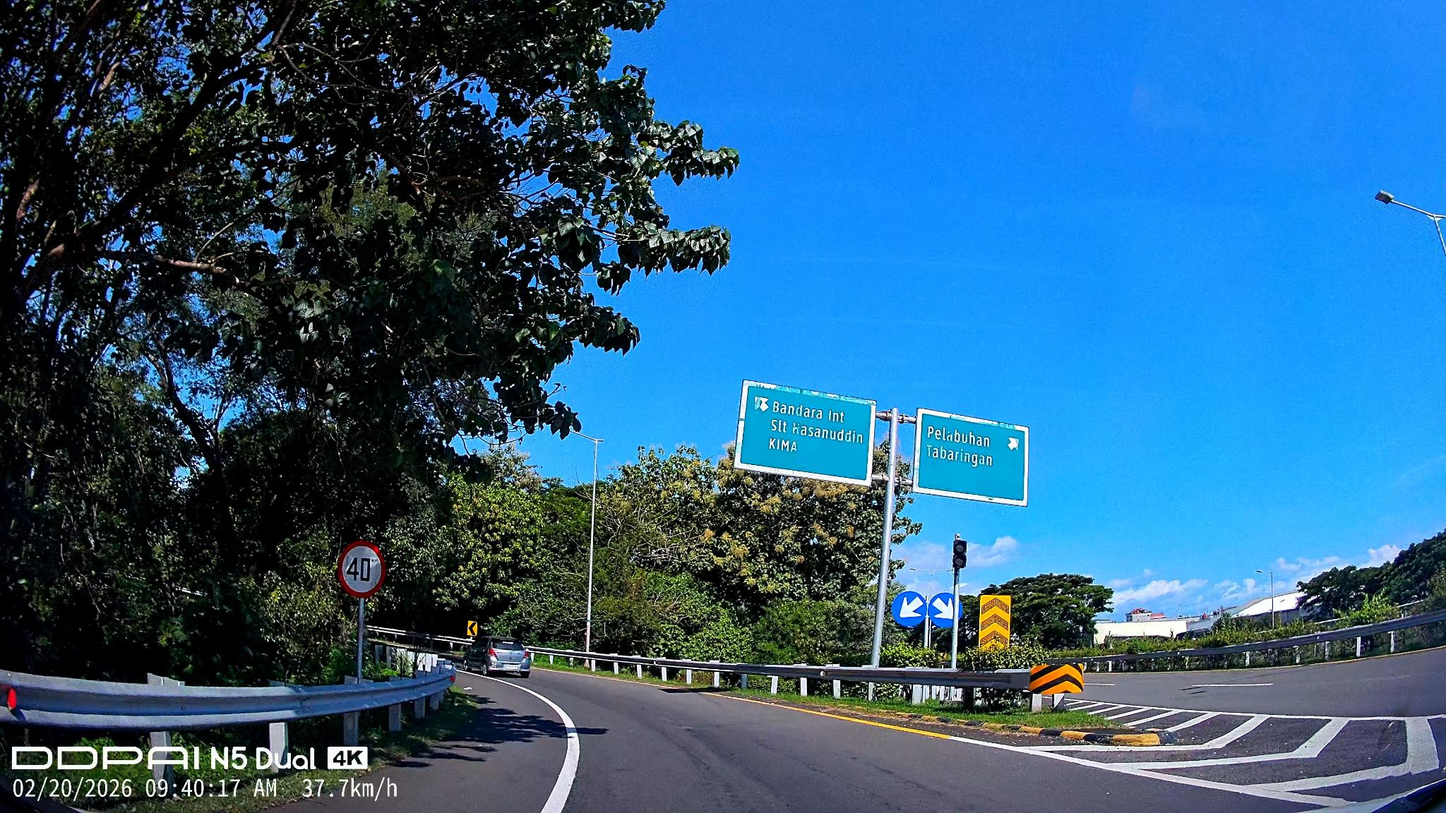rambu_teks: (734, 379, 878, 489), (913, 407, 1031, 509)
